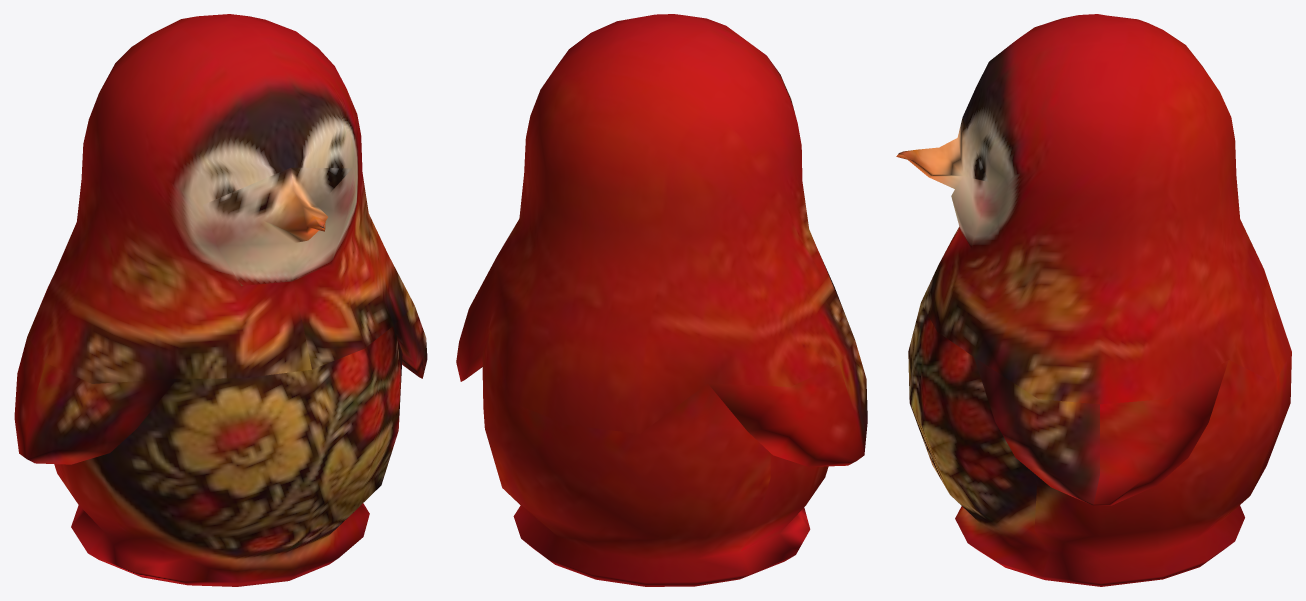
The model's file is penguin-06-11-red-khokhloma-penguin-doll.gltf.
The picture shows the model from 3 angles, left to right: view 1: azimuth 30°, elevation 25°; view 2: azimuth 150°, elevation 25°; view 3: azimuth 270°, elevation 25°; orthographic projection.
Visible parts, largest first — view 1: penguin-06-11-red-khokhloma-penguin-doll; view 2: penguin-06-11-red-khokhloma-penguin-doll; view 3: penguin-06-11-red-khokhloma-penguin-doll.
Boxes of the visible parts, left/top/right/bottom form: penguin-06-11-red-khokhloma-penguin-doll: left=14, top=14, right=427, bottom=586; penguin-06-11-red-khokhloma-penguin-doll: left=456, top=14, right=867, bottom=586; penguin-06-11-red-khokhloma-penguin-doll: left=896, top=14, right=1291, bottom=586.
Bounding box in the file's own units: 0.2 × 0.2499 × 0.1738.
Materials: 1 (1 with a texture image).
